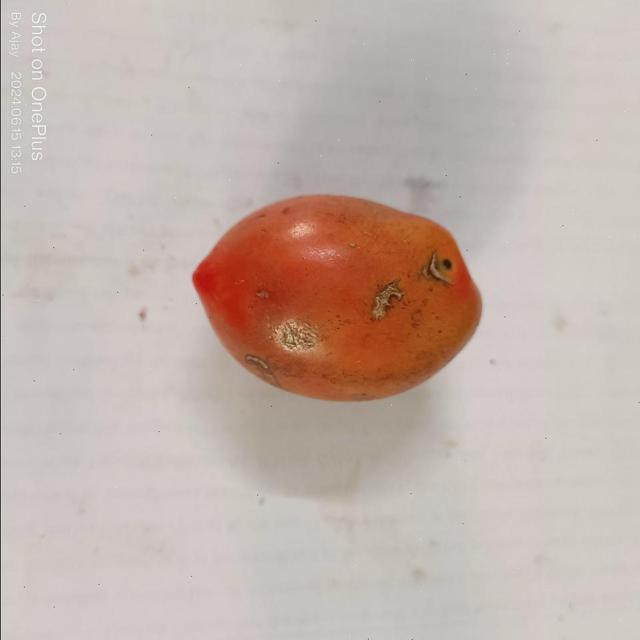Bacterial Spot Fruit: (8, 7, 293, 223)
